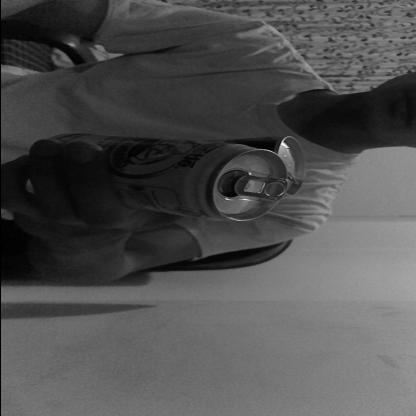alumunium_can: (47, 136, 306, 220)
